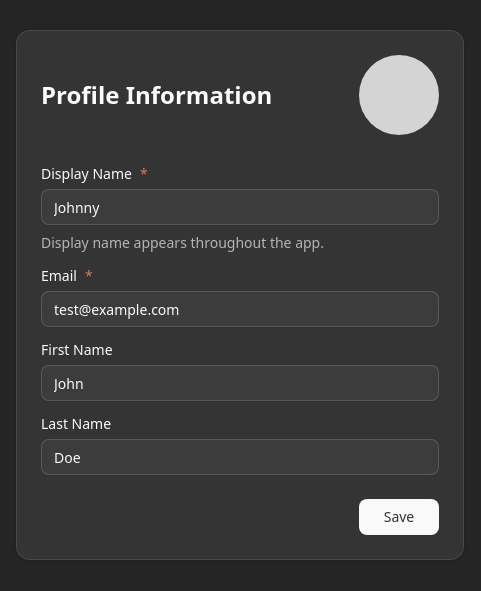
Account › Form Validation › shows validation error for invalid email format
The width and height of the screenshot is (481, 591).
// Data is pre-loaded by route loader
Step 1. Replace the text in the field labelled "Email" with "invalid-email" → (240, 309), box [41,291,439,327]
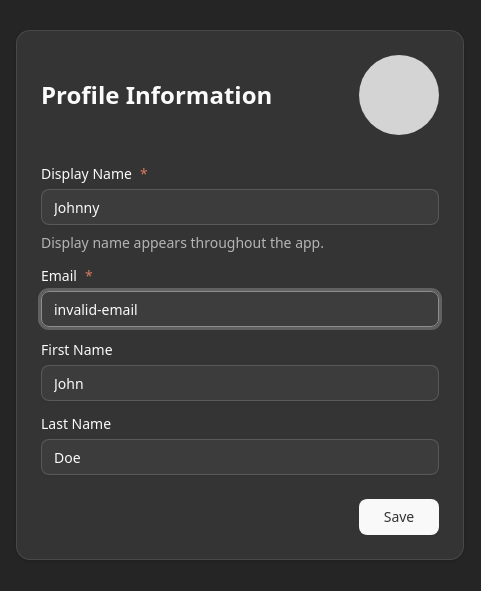
Step 2. Press Tab
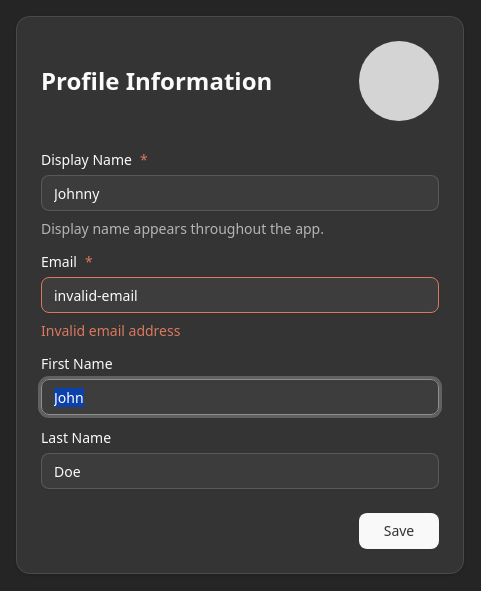
Expected: the text "Invalid email address" is shown, [41,321,180,340]
